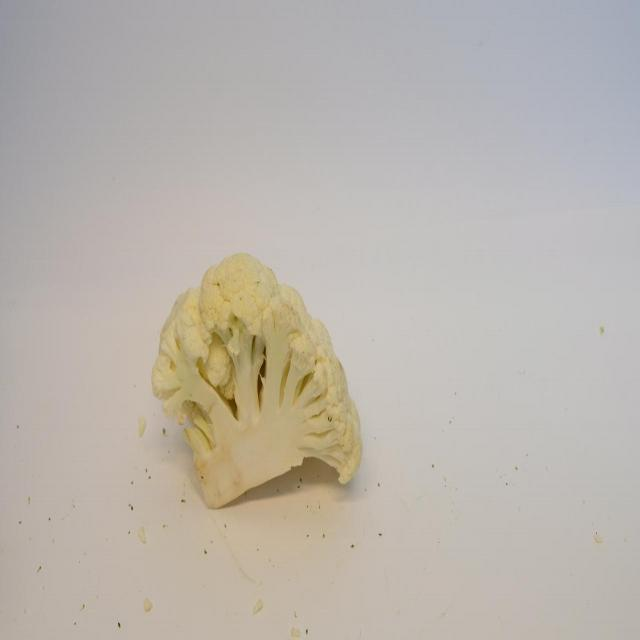cauliflower: (152, 240, 364, 519)
